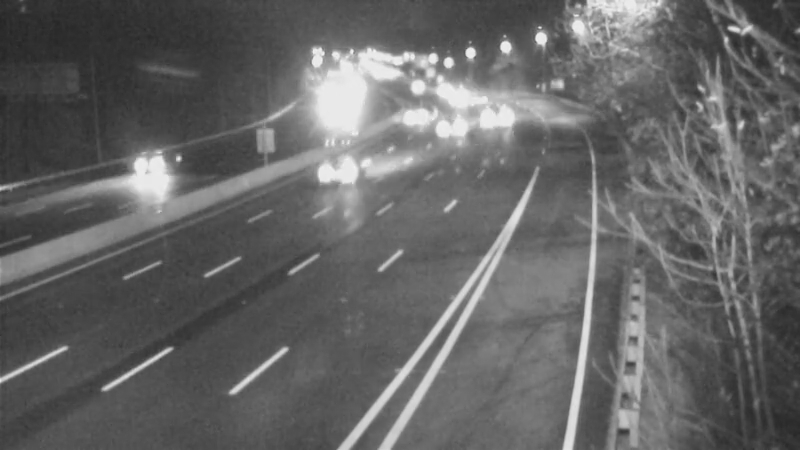vehicle: (300, 128, 380, 208), (112, 121, 192, 201), (393, 62, 443, 112), (444, 75, 494, 125), (385, 89, 435, 139), (468, 90, 518, 140), (425, 97, 475, 147)
